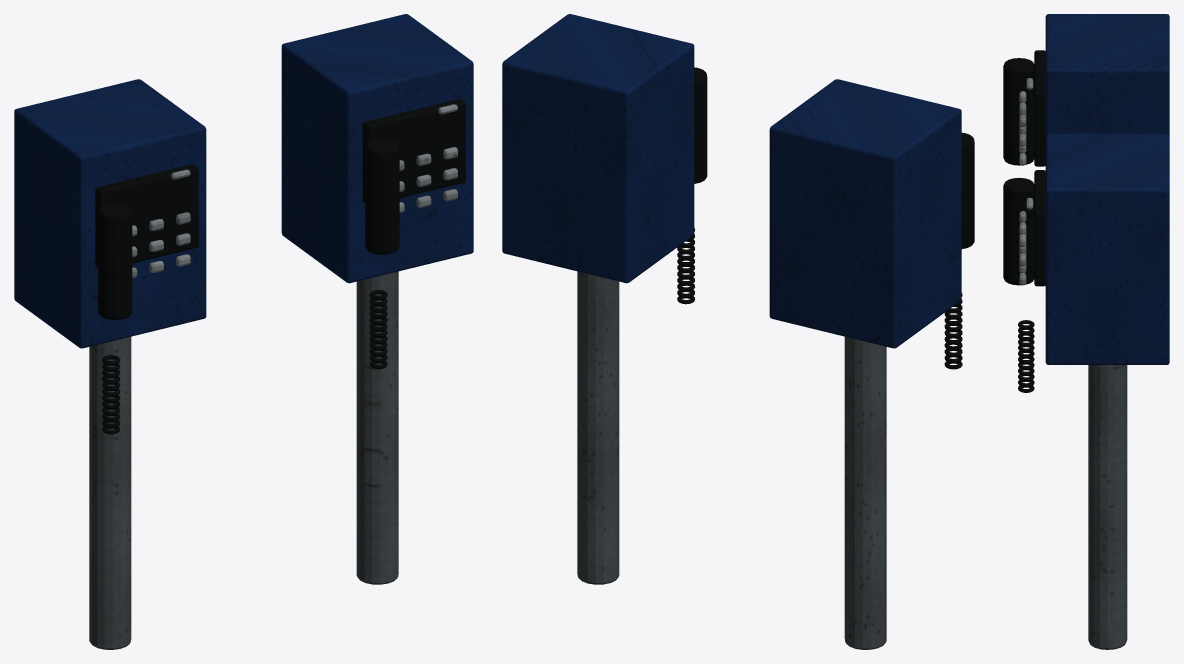
Rendered from PROP-A1C328826BD8_lod0.glb.
3 renders of one model, left to right at view 1: azimuth 30°, elevation 25°; view 2: azimuth 150°, elevation 25°; view 3: azimuth 270°, elevation 25°, orthographic. The views are drawn at different scales.
Parts seen in each view (by area): view 1: cabinet.010, fixture_post.005, recessed_front.010, handset.002, phone_cord.002, phone_keypad.002; view 2: cabinet.010, fixture_post.005, handset.002, phone_cord.002; view 3: cabinet.010, fixture_post.005, handset.002, recessed_front.010, phone_keypad.002, phone_cord.002.
Boxes of the visible parts, box(x1,y1,x2,y2) form: cabinet.010: box(14, 14, 473, 348); fixture_post.005: box(89, 271, 398, 649); recessed_front.010: box(95, 99, 465, 268); handset.002: box(98, 137, 399, 319); phone_cord.002: box(102, 290, 387, 434); phone_keypad.002: box(132, 147, 457, 278); cabinet.010: box(502, 14, 961, 348); fixture_post.005: box(577, 271, 886, 649); handset.002: box(694, 67, 974, 248); phone_cord.002: box(677, 228, 962, 369); cabinet.010: box(1045, 14, 1169, 364); fixture_post.005: box(1088, 365, 1127, 649); handset.002: box(1003, 58, 1034, 285); recessed_front.010: box(1034, 50, 1045, 286); phone_keypad.002: box(1019, 91, 1026, 285); phone_cord.002: box(1018, 320, 1034, 392).
Bounding box in the file's own units: 1.18 × 1.5 × 0.47.
Materials: 4 (4 with a texture image).
